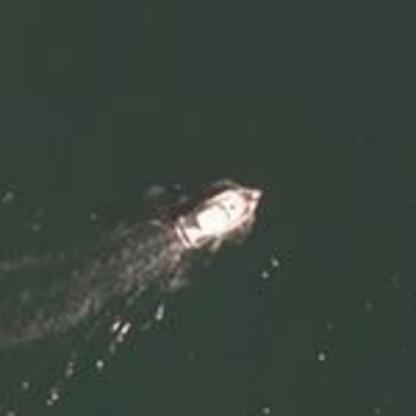ship: (163, 178, 269, 256)
